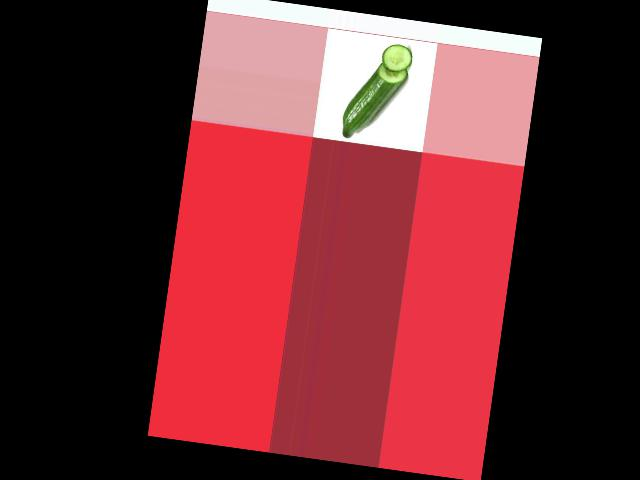cucumber: (340, 57, 409, 144)
